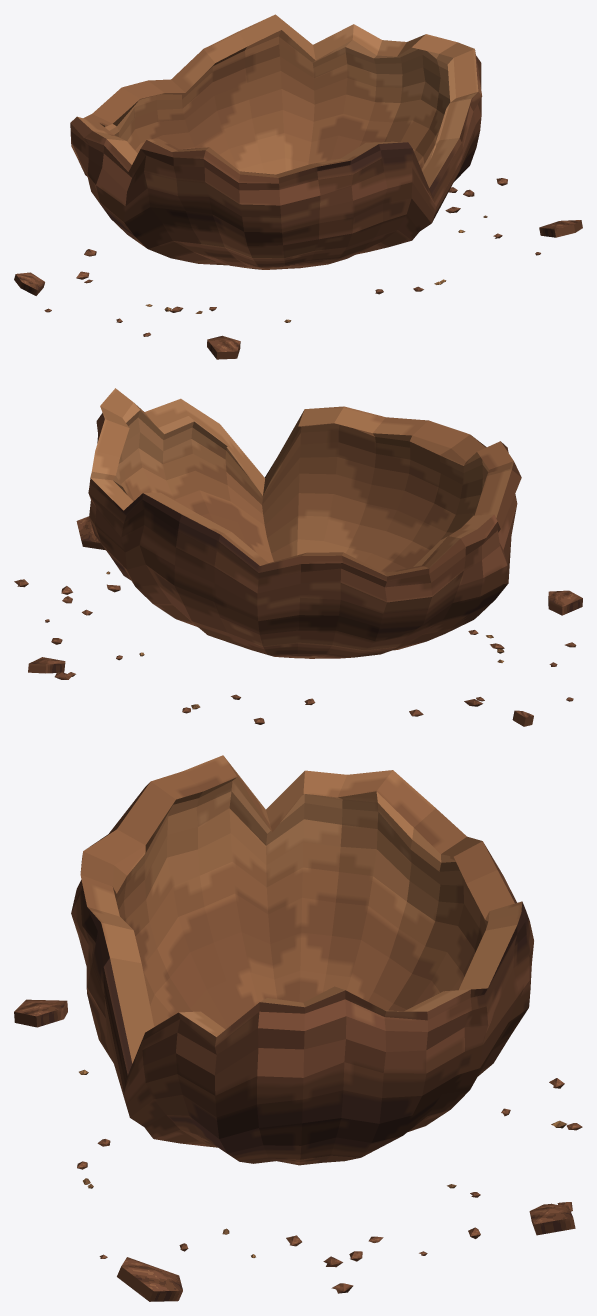
File: SM_AN21_WalnutBowl.fbx
3 renders of one model, top to bottom at view 1: azimuth 30°, elevation 25°; view 2: azimuth 150°, elevation 25°; view 3: azimuth 270°, elevation 25°, orthographic. The views are drawn at different scales.
Visible parts, largest first — view 1: AN21a_Props; view 2: AN21a_Props; view 3: AN21a_Props.
Boxes of the visible parts, x1,y1,x2,y2 form: AN21a_Props: (14, 14, 582, 359); AN21a_Props: (14, 388, 582, 726); AN21a_Props: (14, 755, 582, 1301).
Bounding box in the file's own units: 2.03 × 0.6984 × 1.38.
